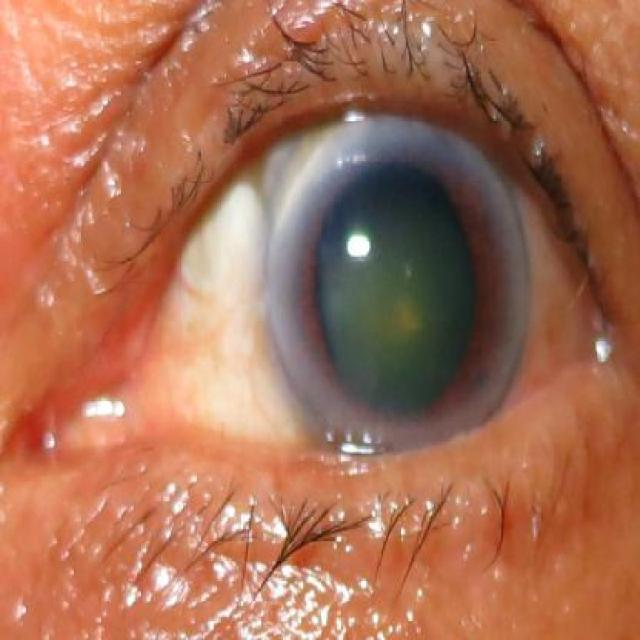Cataract: (272, 110, 530, 462)
